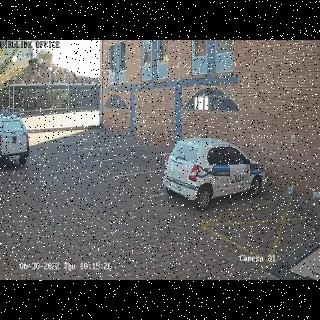car: (162, 140, 267, 212), (0, 113, 30, 168)
